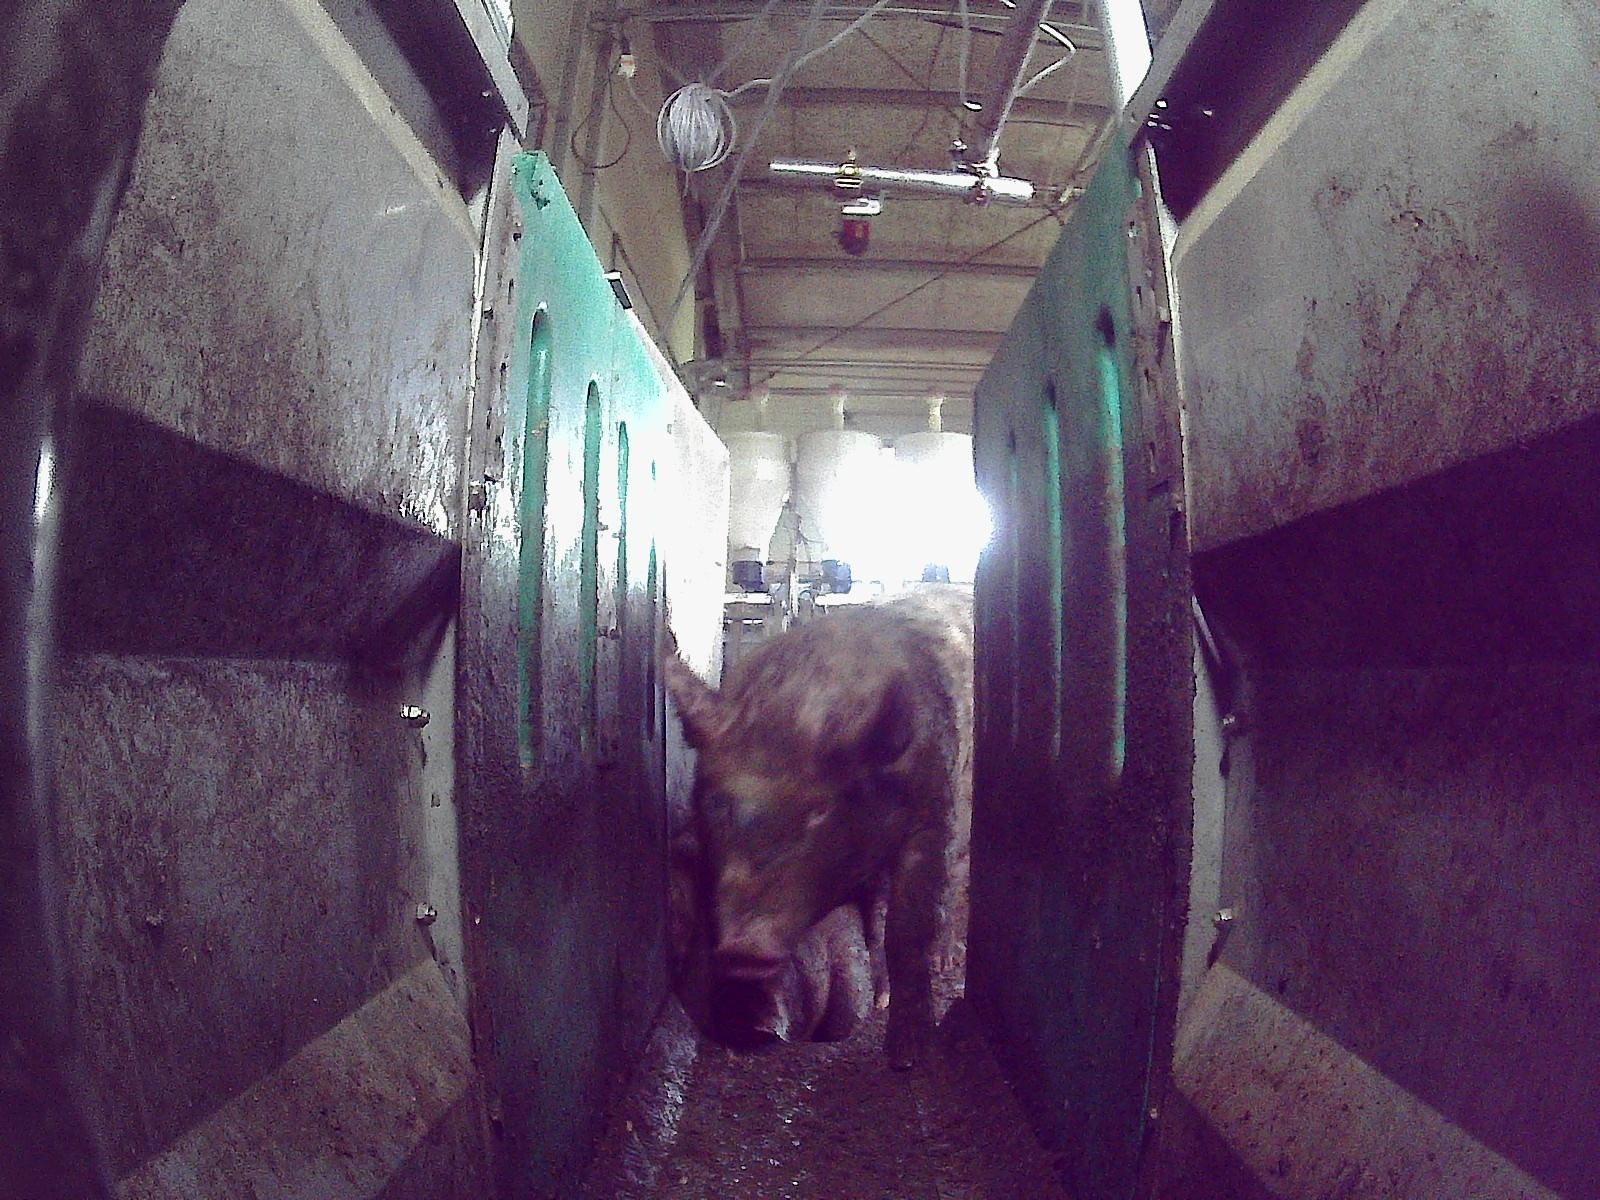Face: (691, 722, 846, 980)
